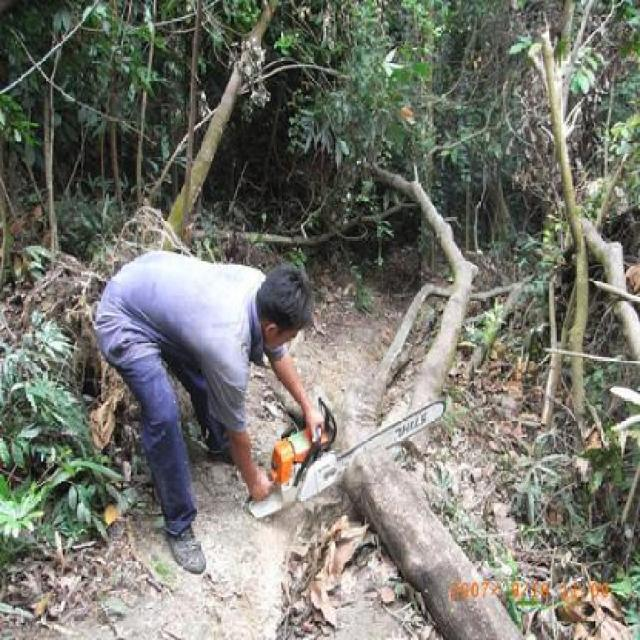Chainsaw: (243, 392, 451, 522)
